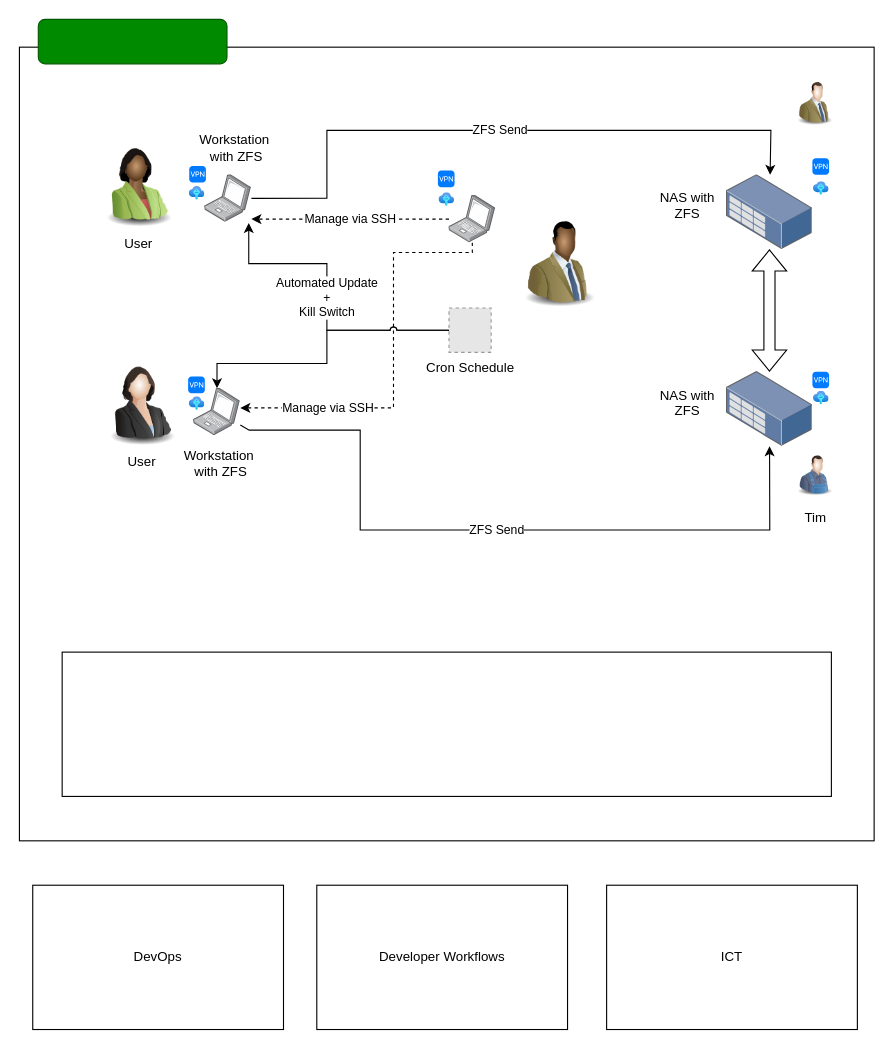
Some shapes in this 894 by 1049 pixel diagram are drawn without their labels. Grey dashed boxes stand in for pictures. Here are the shapes that lost their labels. From the top down, the box of each, then its label:
(37, 18, 227, 64): Kartoza VPN
(793, 75, 837, 131): Gavin
(515, 219, 604, 307): Admin
(61, 651, 831, 796): Company Cloud
